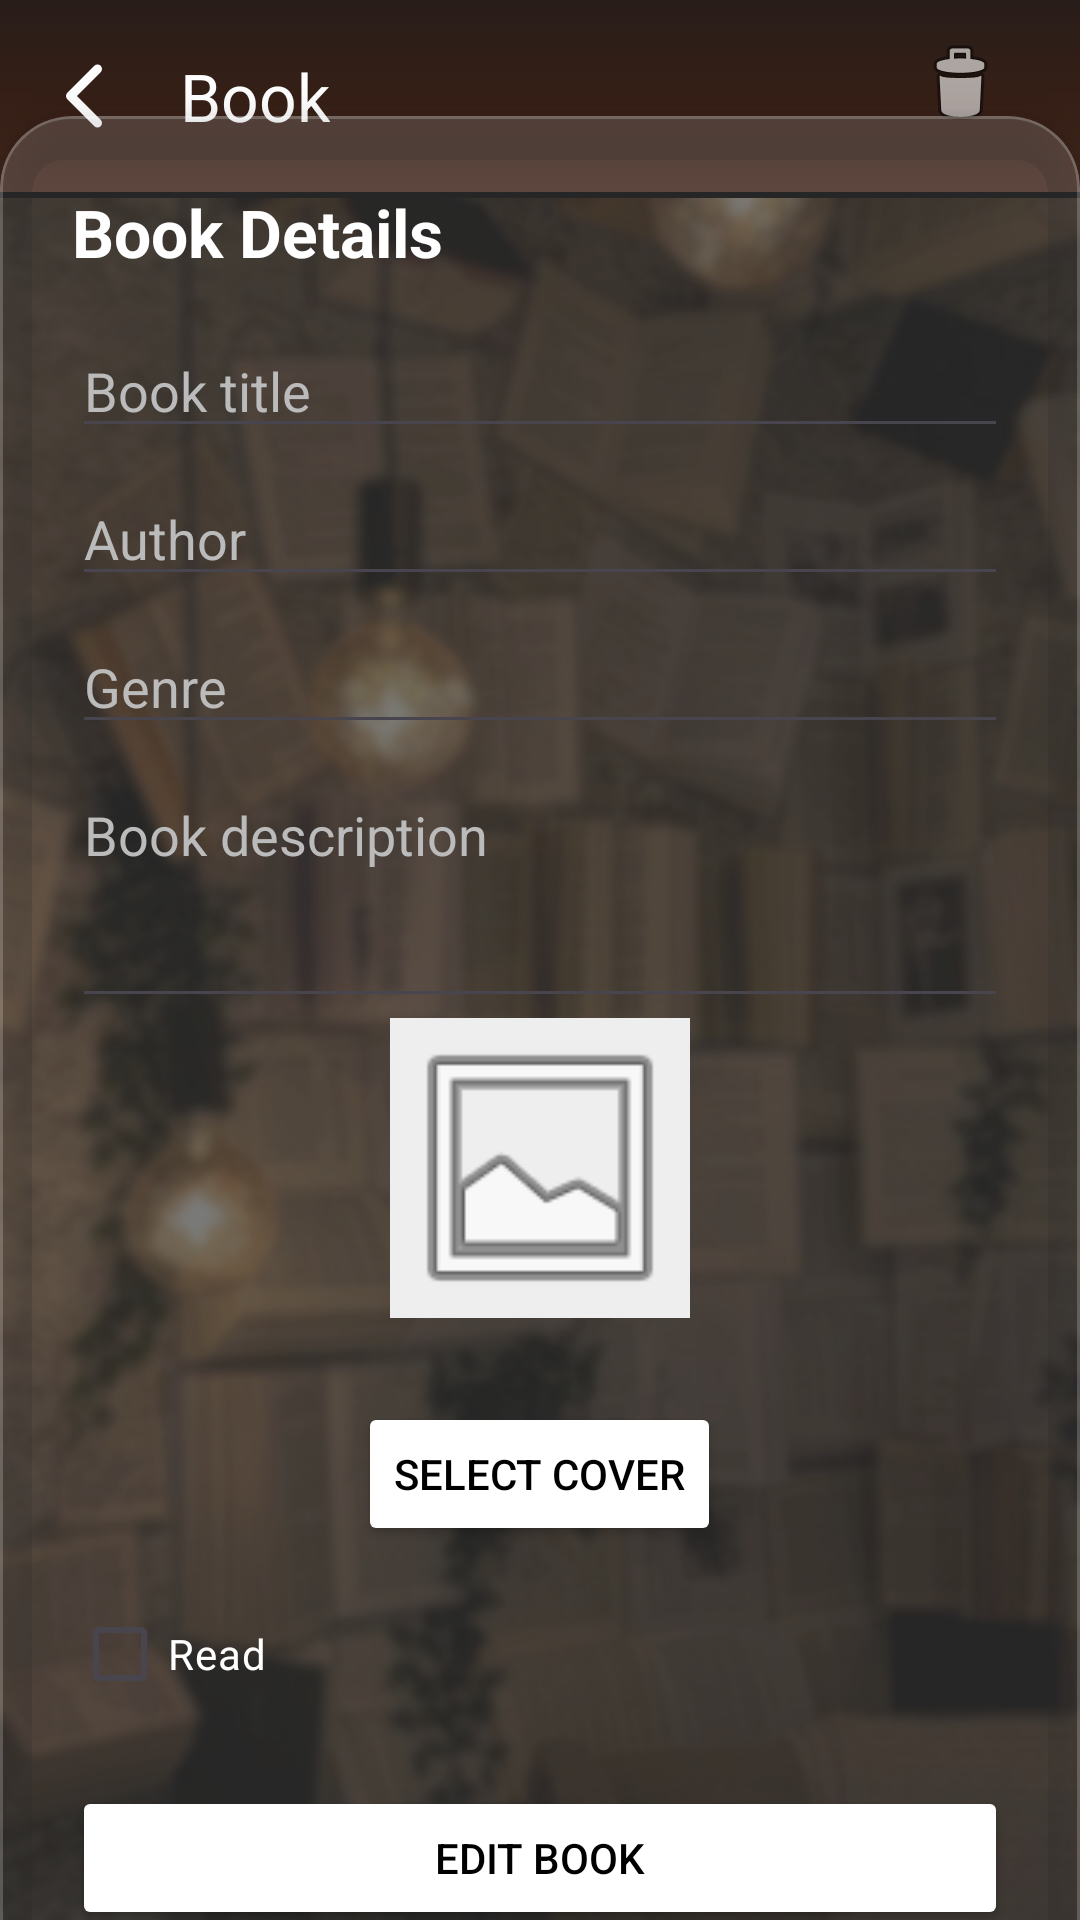

Icon click points for this 1080w x 1920h phone screenshot, format point (x, y):
gallery: point (540, 1168)
